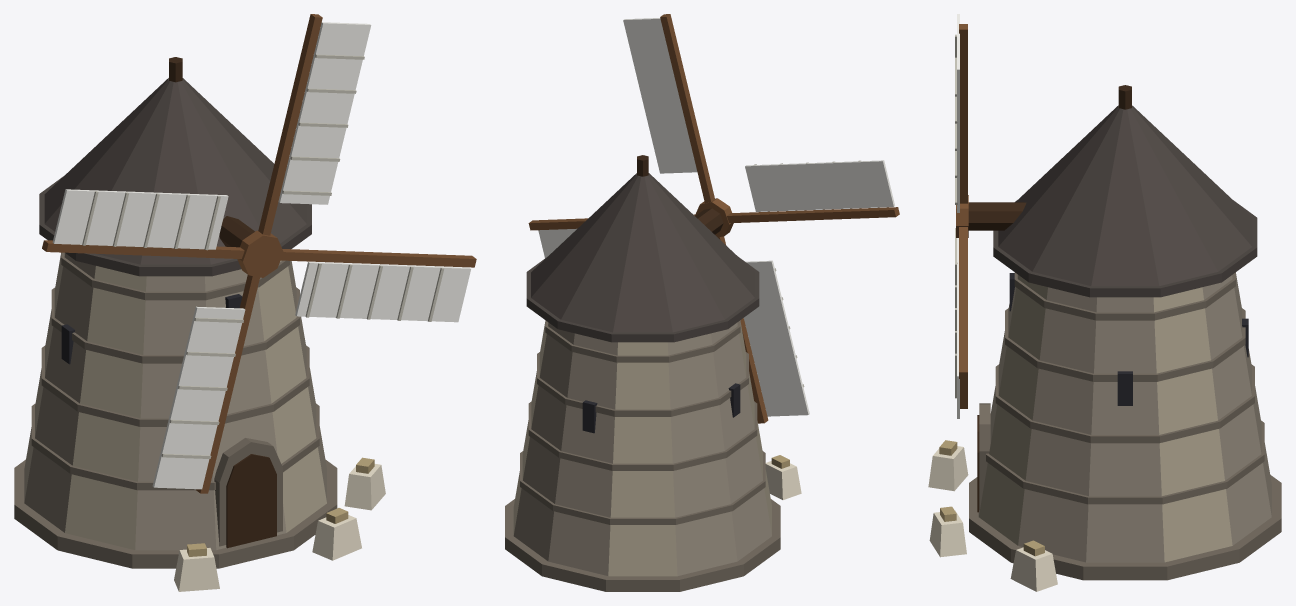
File: windmill-2x2-t3.glb
3 views of the same model, side by side, from view 1: azimuth 30°, elevation 25°; view 2: azimuth 150°, elevation 25°; view 3: azimuth 270°, elevation 25° (orthographic). The views are drawn at different scales.
Visible parts, largest first — view 1: windmill-2x2-t3; view 2: windmill-2x2-t3; view 3: windmill-2x2-t3.
Boxes of the visible parts, box(x1,y1,x2,y2) form: windmill-2x2-t3: box(14, 14, 476, 591); windmill-2x2-t3: box(505, 14, 899, 591); windmill-2x2-t3: box(928, 14, 1281, 591).
Bounding box in the file's own units: 1.9 × 2.25 × 1.4.
Materials: 1 (1 with a texture image).
